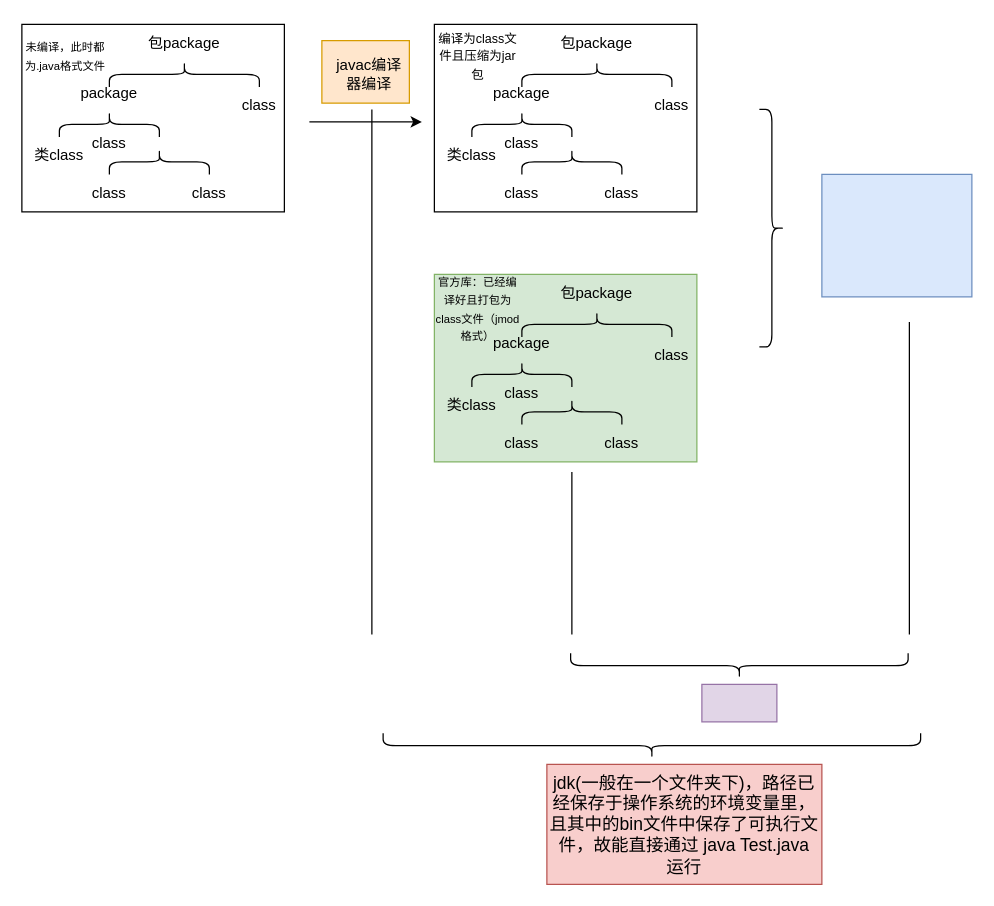
Some shapes in this 994 by 906 pixel diagram are drawn without their labels. Here are the shapes that lost their labels. From the top down, the centre of each, then its label:
point 896,235: jvm程序加载解析运行
point 739,702: jre
